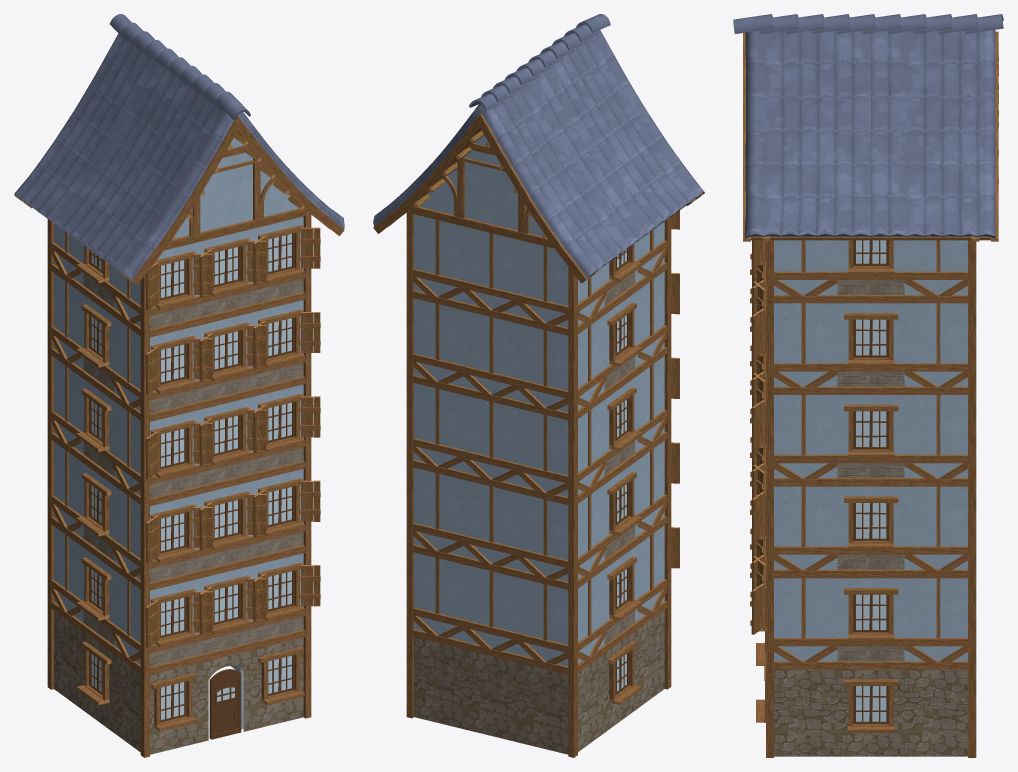
File: office_tower_blue.glb
The picture shows the model from 3 angles, left to right: view 1: azimuth 30°, elevation 25°; view 2: azimuth 150°, elevation 25°; view 3: azimuth 270°, elevation 25°; orthographic projection. The views are drawn at different scales.
Parts seen in each view (by area): view 1: Wall_UnevenBrick_Window_Wide_Flat, Window_Wide_Flat1, Roof_RoundTiles_6x6, Wall_Plaster_Window_Wide_Flat, Wall_UnevenBrick_Door_Round; view 2: Wall_UnevenBrick_Window_Wide_Flat, Roof_RoundTiles_6x6, Window_Wide_Flat1, Wall_UnevenBrick_Door_Round, Wall_Plaster_Window_Wide_Flat; view 3: Wall_UnevenBrick_Window_Wide_Flat, Roof_RoundTiles_6x6, Window_Wide_Flat1, Wall_UnevenBrick_Door_Round, Wall_Plaster_Window_Wide_Flat.
Boxes of the visible parts, bbox=[...] form: Wall_UnevenBrick_Window_Wide_Flat: bbox=[14, 116, 344, 754]; Window_Wide_Flat1: bbox=[47, 133, 311, 757]; Roof_RoundTiles_6x6: bbox=[14, 14, 344, 280]; Wall_Plaster_Window_Wide_Flat: bbox=[83, 273, 303, 666]; Wall_UnevenBrick_Door_Round: bbox=[54, 138, 298, 751]; Wall_UnevenBrick_Window_Wide_Flat: bbox=[373, 113, 704, 732]; Roof_RoundTiles_6x6: bbox=[373, 14, 704, 278]; Window_Wide_Flat1: bbox=[406, 131, 671, 757]; Wall_UnevenBrick_Door_Round: bbox=[414, 135, 664, 754]; Wall_Plaster_Window_Wide_Flat: bbox=[604, 271, 635, 644]; Wall_UnevenBrick_Window_Wide_Flat: bbox=[743, 31, 998, 756]; Roof_RoundTiles_6x6: bbox=[733, 14, 1003, 238]; Window_Wide_Flat1: bbox=[756, 55, 998, 757]; Wall_UnevenBrick_Door_Round: bbox=[774, 669, 967, 756]; Wall_Plaster_Window_Wide_Flat: bbox=[837, 280, 904, 661].
Bounding box in the file's own units: 8.25 × 22.89 × 8.03.
6 materials, 5 textured.
